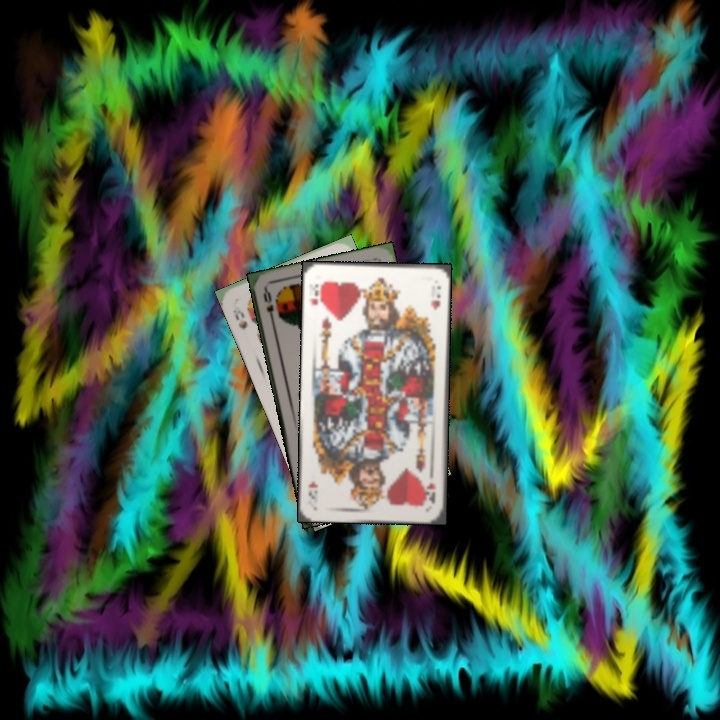HK: (306, 277, 325, 309), (422, 479, 438, 507)
S8: (229, 299, 250, 332)
SO: (259, 285, 277, 325)
